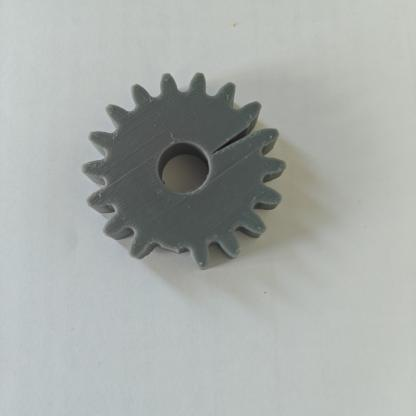defect: (205, 105, 284, 163)
gear: (64, 58, 302, 278)
